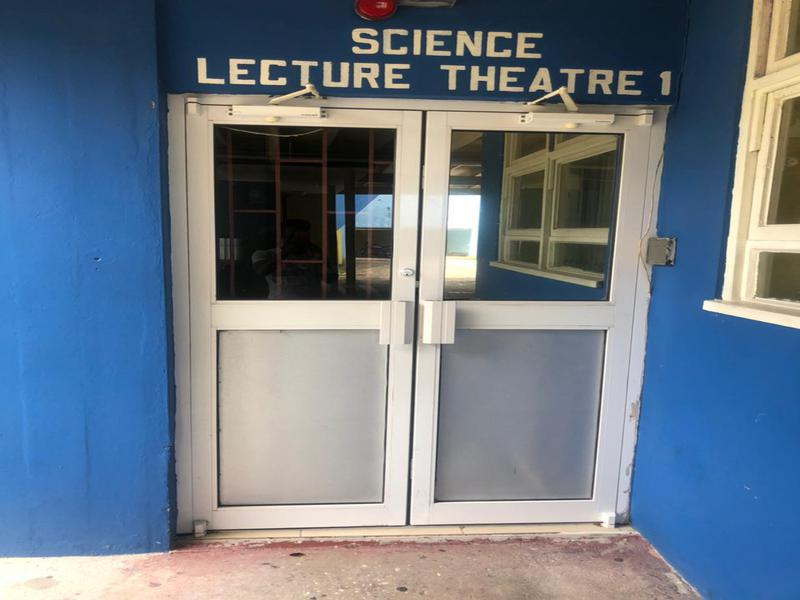slt1_door: (161, 6, 676, 538)
